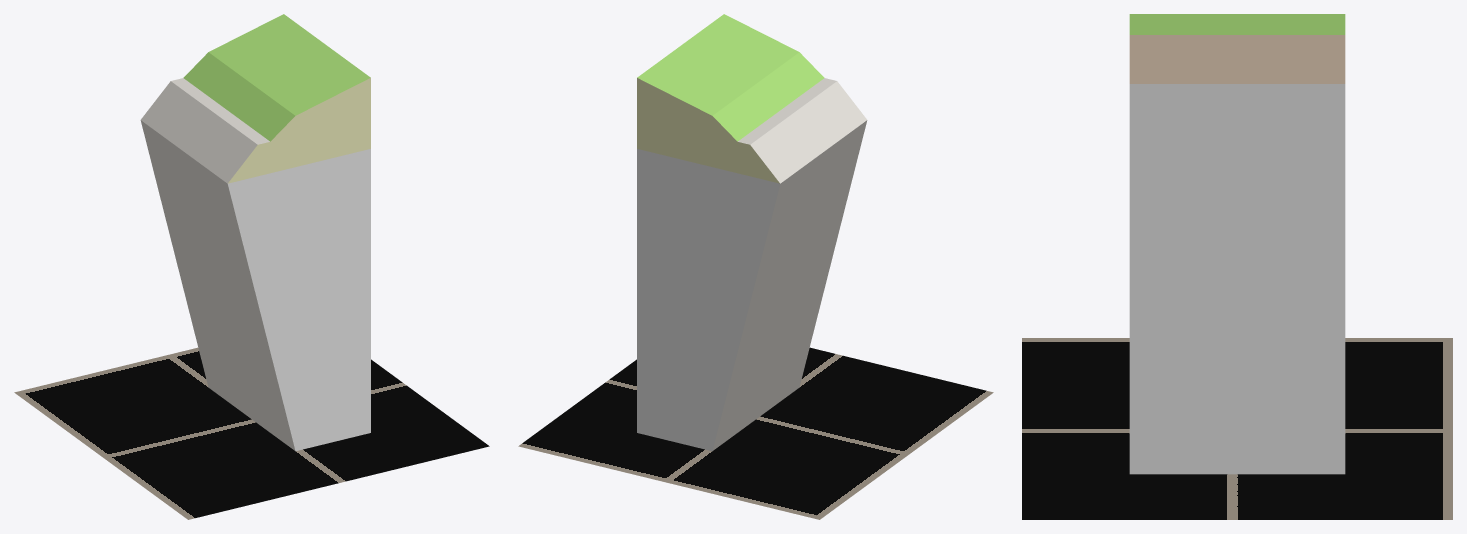
Rendered from Basic_Straight_Top_1x1.glb.
The picture shows the model from 3 angles, left to right: view 1: azimuth 30°, elevation 25°; view 2: azimuth 150°, elevation 25°; view 3: azimuth 270°, elevation 25°; orthographic projection. The views are drawn at different scales.
Parts seen in each view (by area): view 1: Basic_Straight_Top_1x1, Floor; view 2: Basic_Straight_Top_1x1, Floor; view 3: Basic_Straight_Top_1x1, Floor.
Boxes of the visible parts, box(x1,y1,x2,y2) form: Basic_Straight_Top_1x1: box(140, 14, 370, 451); Floor: box(14, 347, 489, 519); Basic_Straight_Top_1x1: box(637, 14, 867, 451); Floor: box(518, 347, 993, 519); Basic_Straight_Top_1x1: box(1129, 14, 1345, 474); Floor: box(1022, 338, 1452, 519).
Bounding box in the file's own units: 200 × 225 × 200.
Materials: 6 (1 with a texture image).
